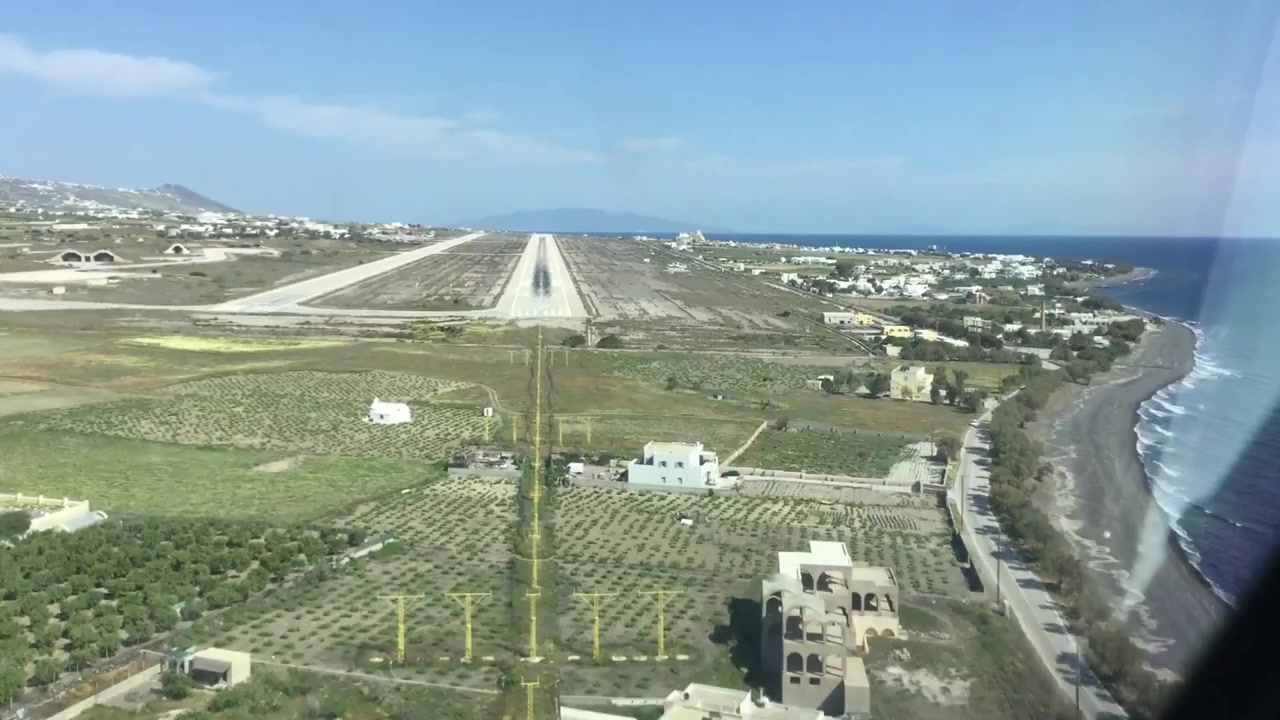entrance: (510, 308, 570, 318)
runway: (212, 232, 480, 313), (494, 234, 588, 319)
